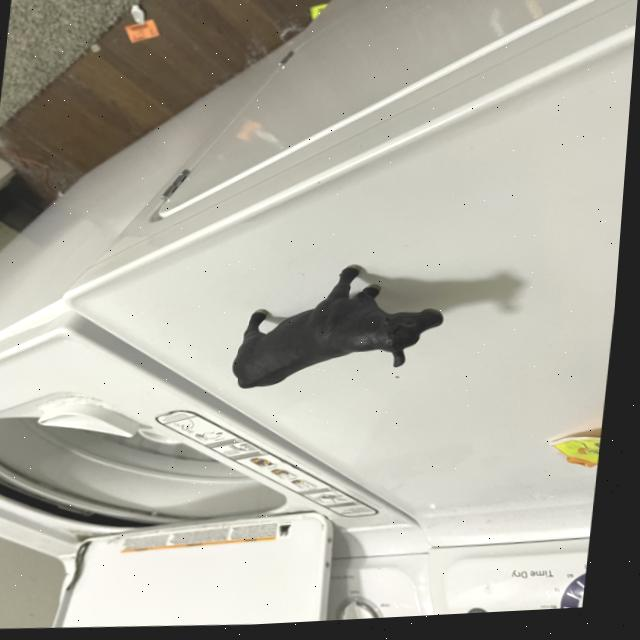cow: (227, 258, 454, 393)
